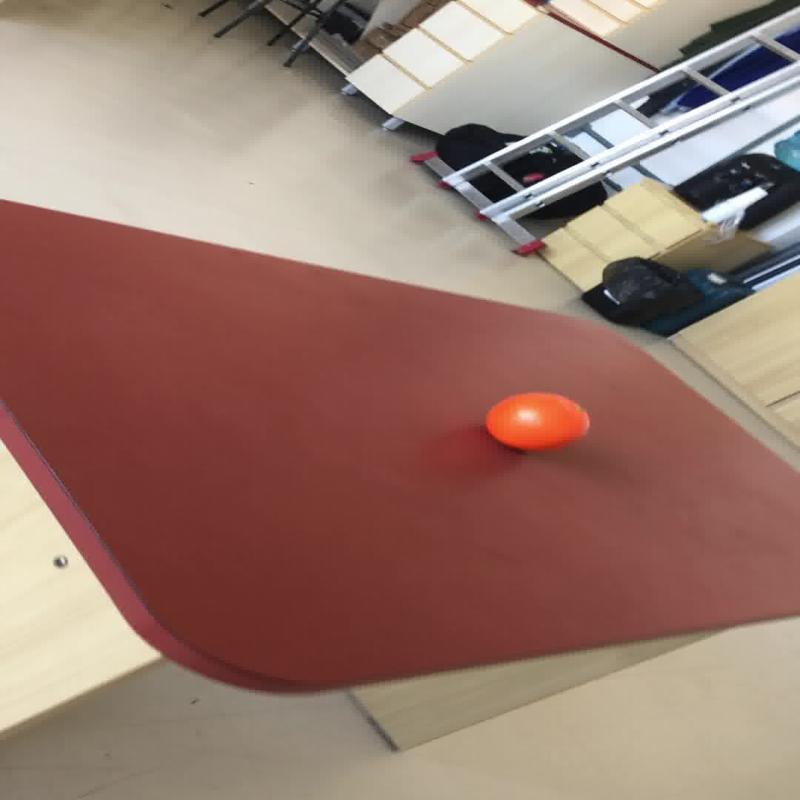orange: (483, 391, 590, 451)
